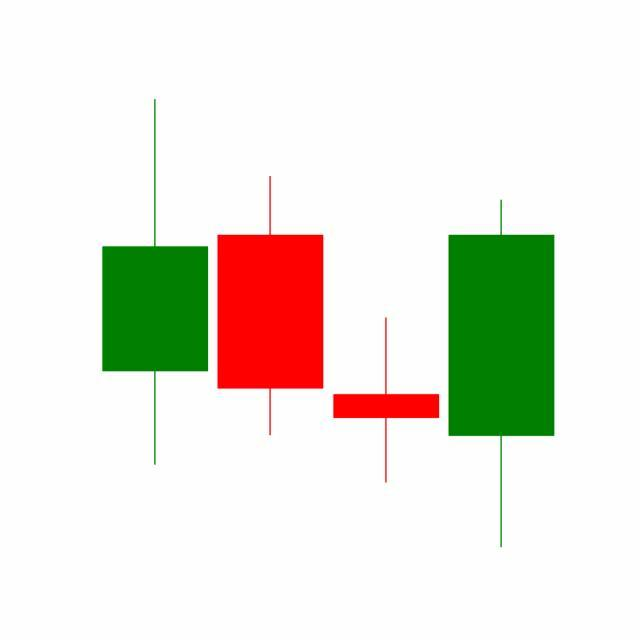Morning Star: (211, 171, 555, 548)
